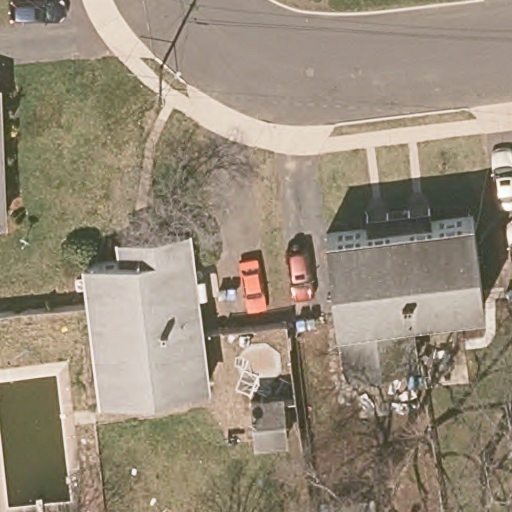DT: (129, 60, 181, 110)
